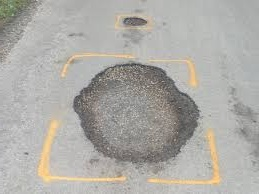pothole: (67, 59, 198, 169), (117, 12, 146, 27)
